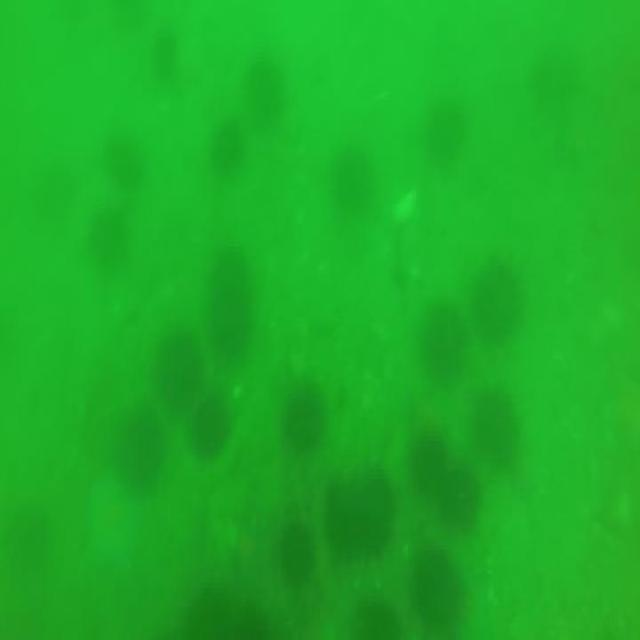echinus: (206, 244, 254, 368), (322, 472, 394, 550), (154, 326, 202, 418), (471, 395, 524, 474), (412, 547, 467, 621), (473, 259, 522, 337), (100, 125, 150, 197), (120, 411, 167, 487), (277, 394, 327, 455), (341, 152, 383, 224), (243, 54, 285, 125), (191, 389, 230, 461), (425, 303, 465, 373), (90, 204, 130, 270), (421, 106, 466, 163), (276, 510, 312, 577), (414, 428, 446, 495), (441, 477, 485, 523), (148, 32, 180, 78), (214, 128, 244, 174)
starfish: (82, 479, 157, 569)
